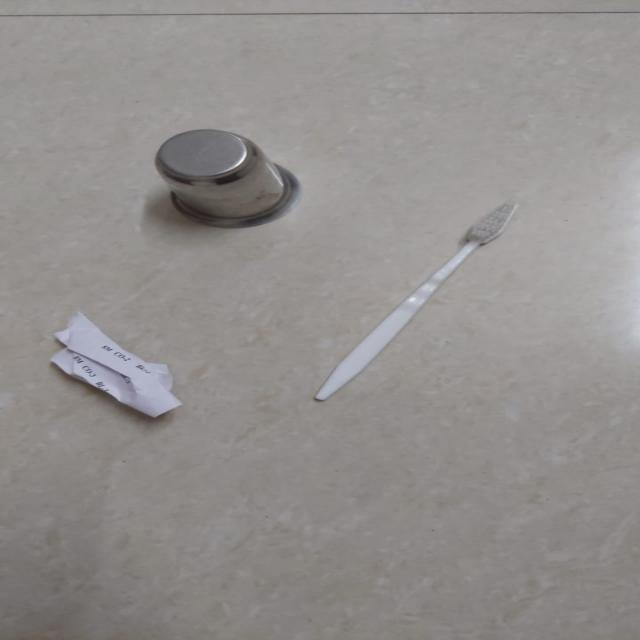dry: (293, 196, 572, 476), (151, 122, 335, 243), (51, 308, 220, 438)
